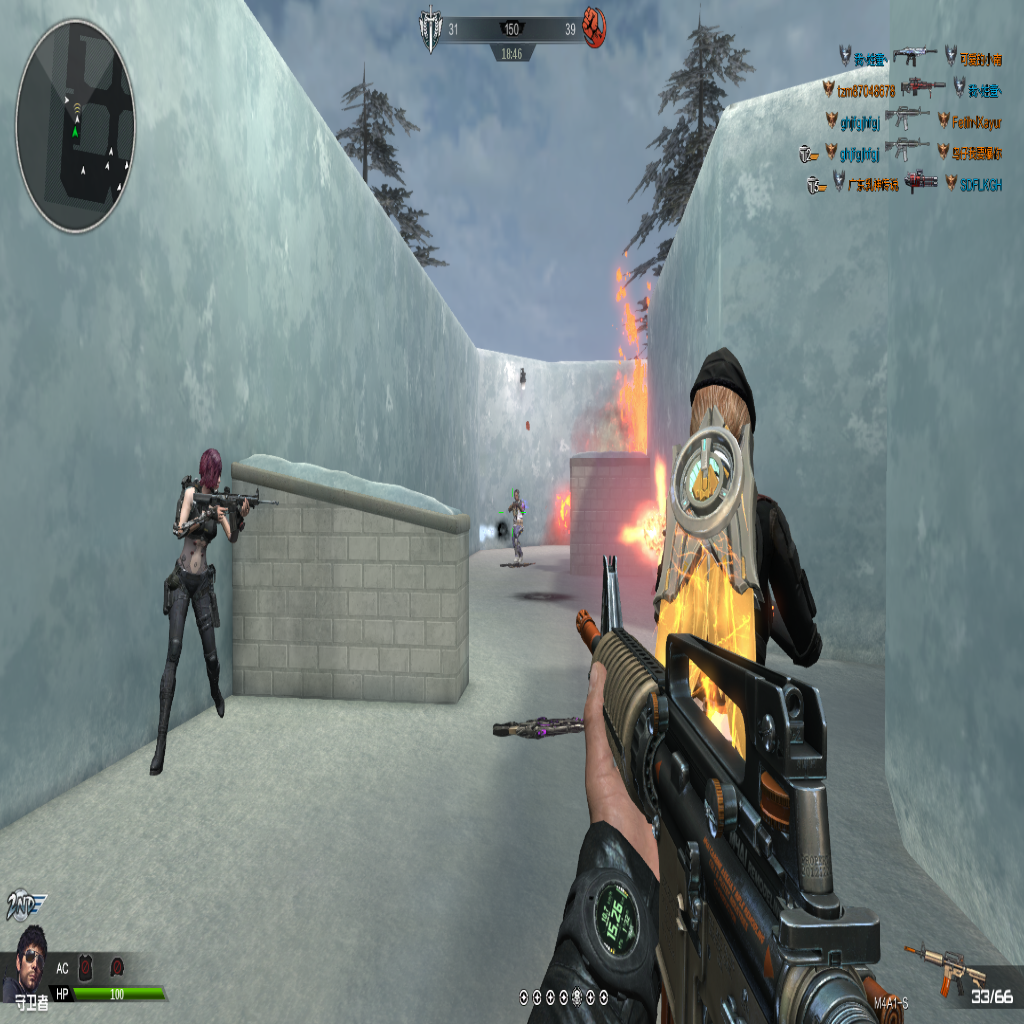ct: (149, 450, 254, 769)
tt: (508, 486, 526, 561)
